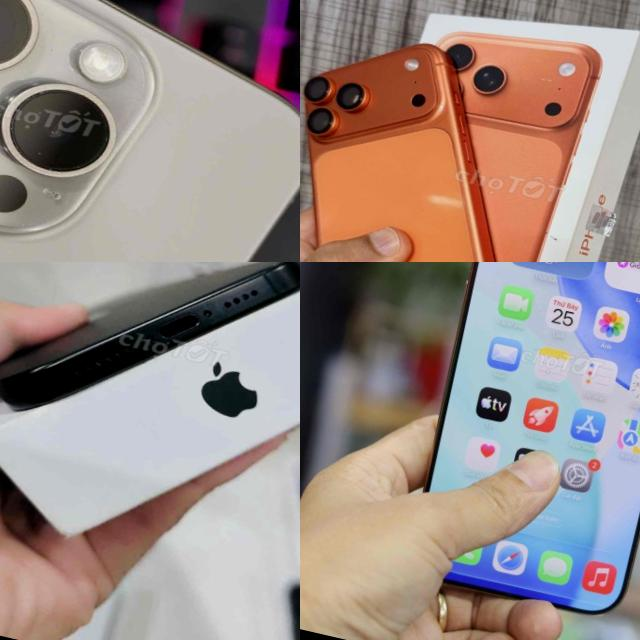gen_15: (0, 0, 300, 262)
gen_16: (385, 262, 640, 627), (0, 262, 300, 467)
gen_17: (300, 15, 582, 262)
